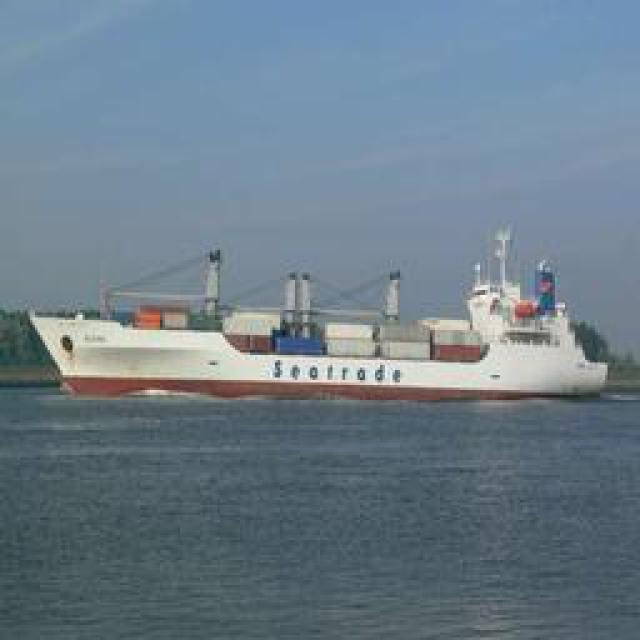Ship: (42, 246, 615, 406)
